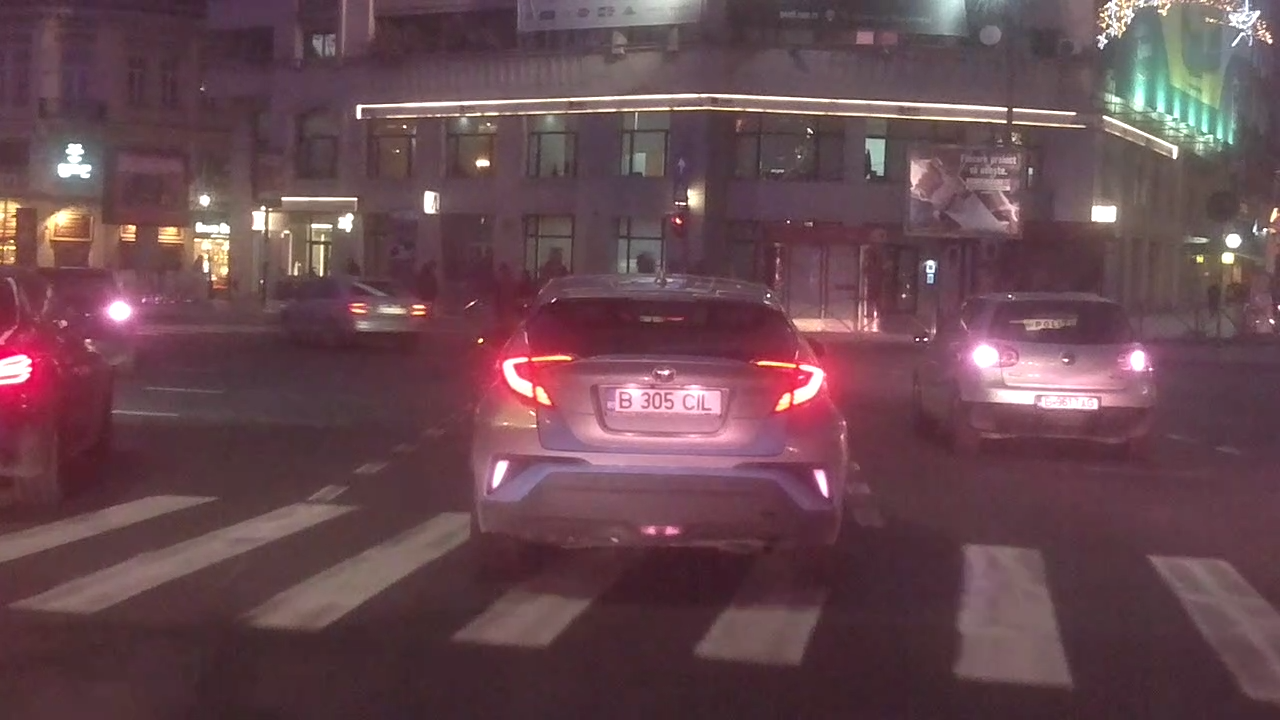license-plate: (600, 383, 724, 417), (1034, 392, 1102, 412)
